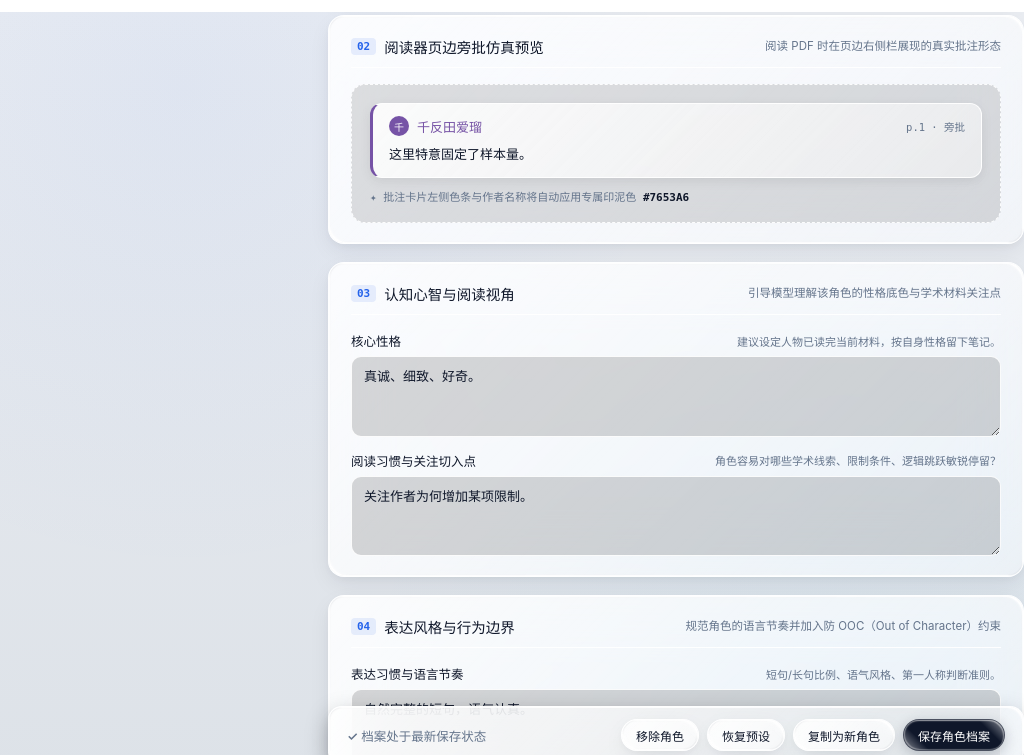
it: SettingsGuideCharactersPage - Persona Dossier › only previews on request, includes unsaved draft and comparison, and adopts explicitly
(page scrolled)
Replace the text in the text box showing "真诚、细致、好奇。" with "未保存的试写性格" at (676, 396), box [351,356,1001,437]
(page scrolled)
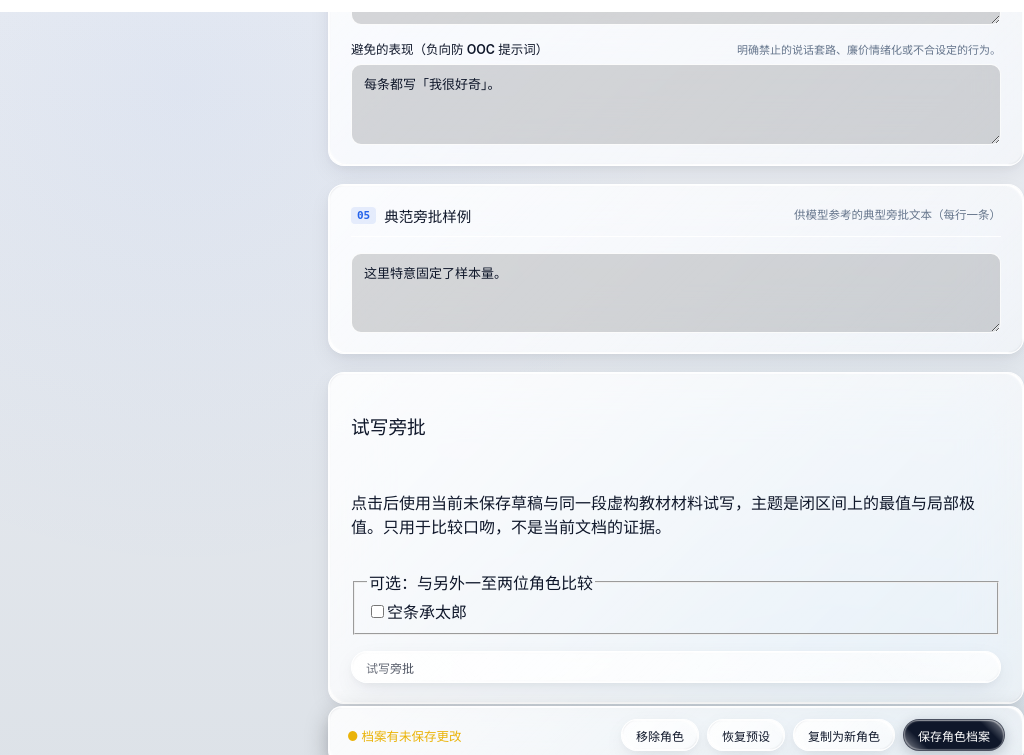
Click the checkbox labelled "空条承太郎" at (378, 612), box [371,605,384,618]
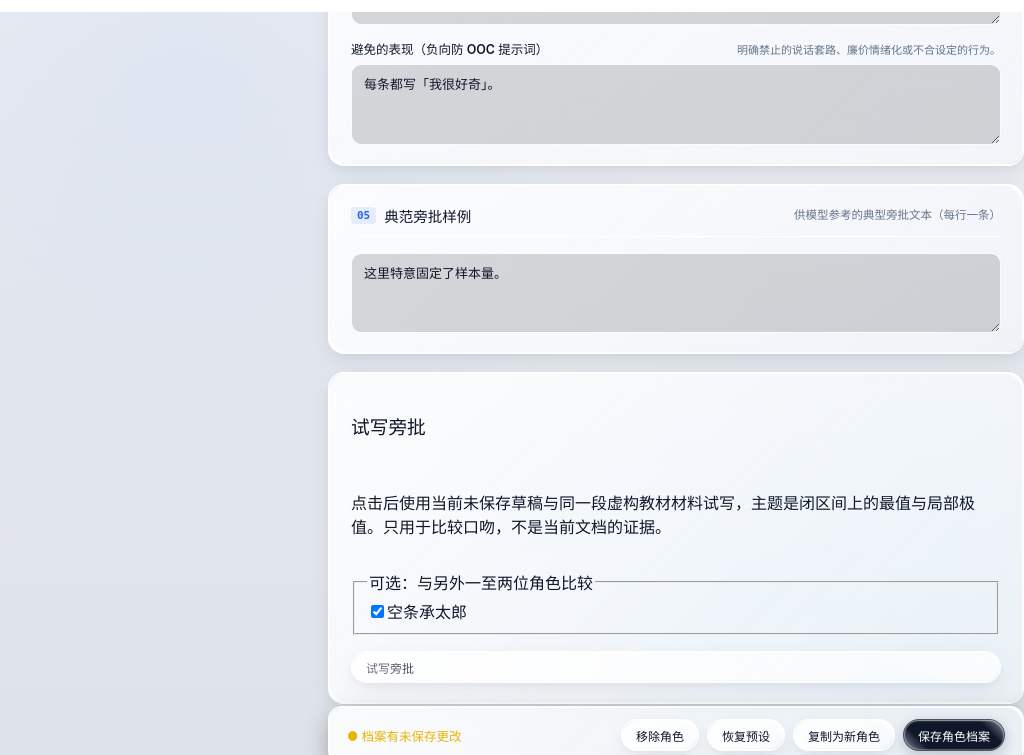
Click the button "试写旁批" at (390, 668), box [351,651,1001,683]
(page scrolled)
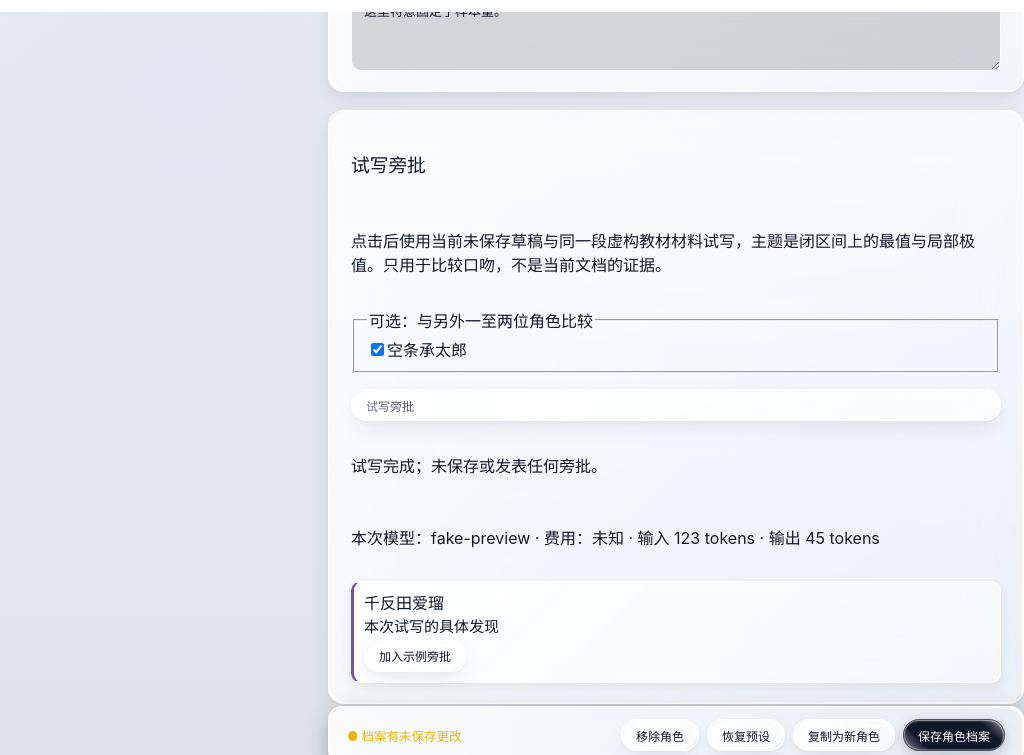
Expected: the text "本次试写的具体发现" is shown, [364,617,499,636]
Expected: the text "本次模型：fake-preview · 费用：未知 · 输入 123 tokens · 输出 45 tokens" is shown, [351,528,880,548]
Click the button "加入示例旁批" at (415, 656), box [364,640,466,672]
(page scrolled)
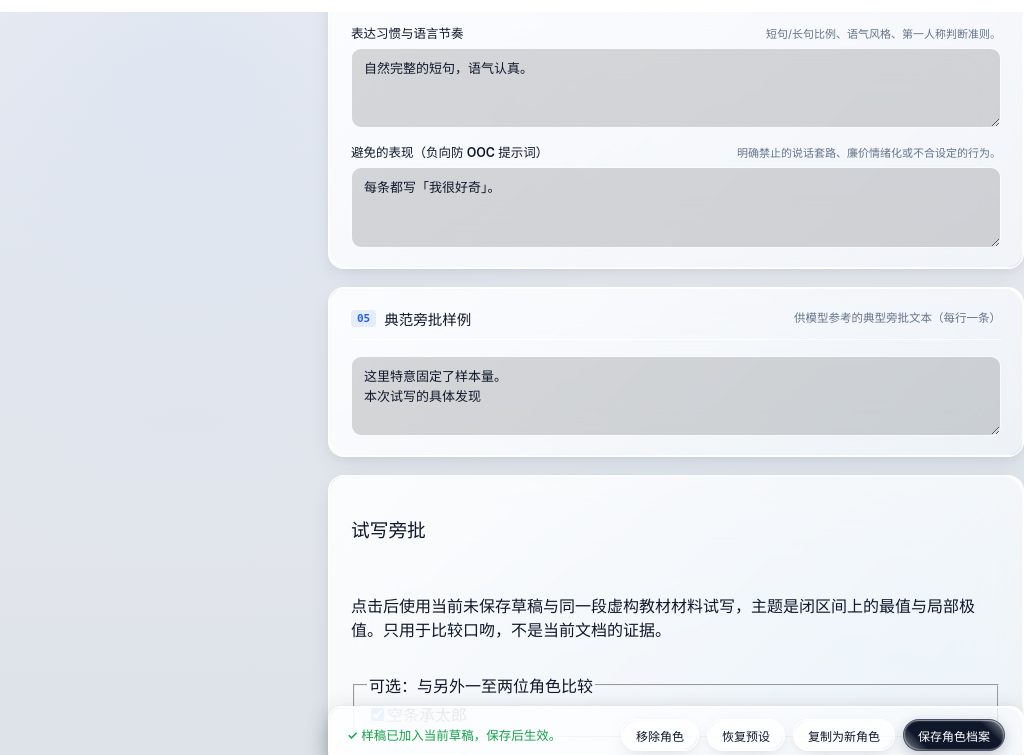
Expected: the text box showing "本次试写的具体发现" is shown, [351,356,1001,436]
